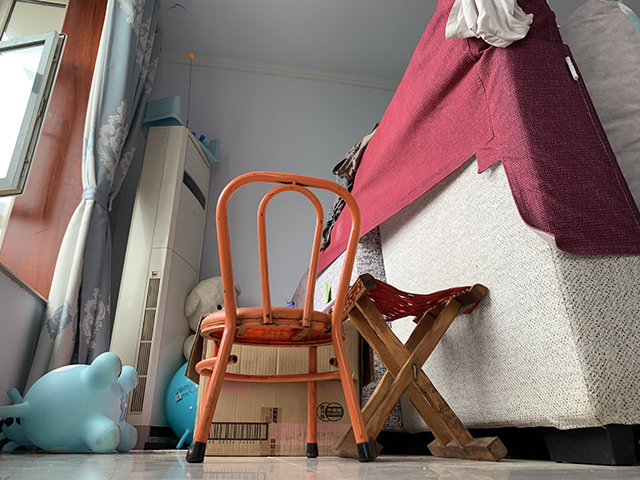bed: (283, 1, 640, 468)
stool: (185, 169, 376, 464), (331, 271, 510, 462)
